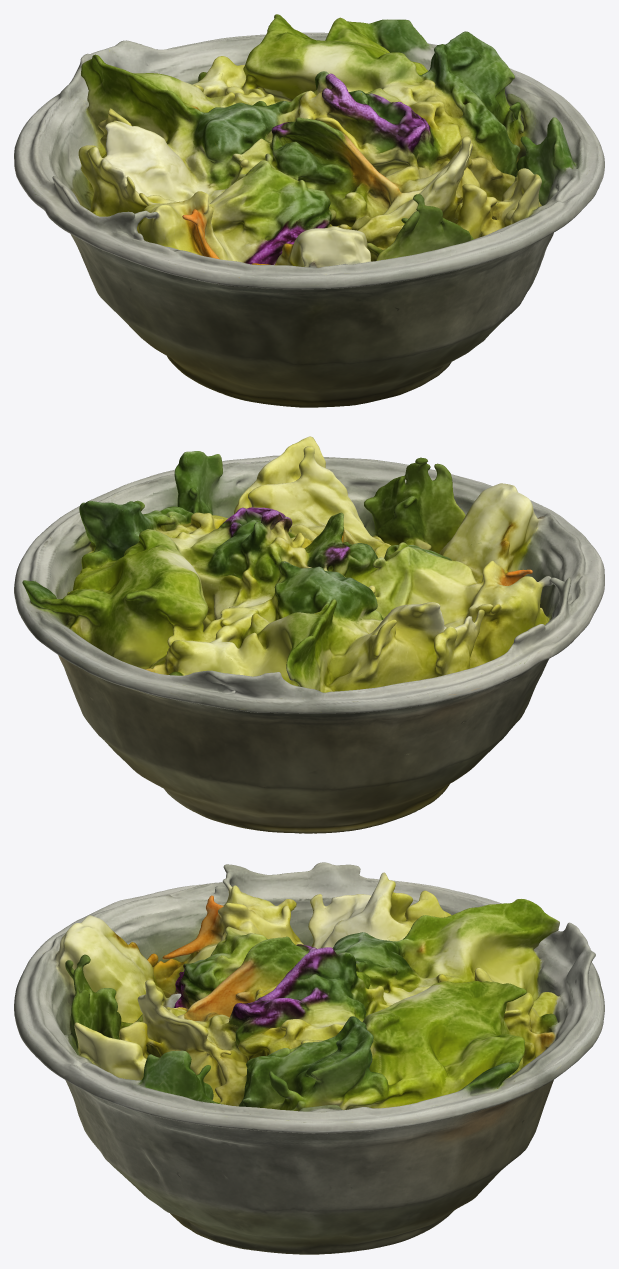
Rendered from Copilot3D-b7cbcd95-22c1-4b60-9c3e-02cd4f29441e.glb.
The picture shows the model from 3 angles, top to bottom: view 1: azimuth 30°, elevation 25°; view 2: azimuth 150°, elevation 25°; view 3: azimuth 270°, elevation 25°; orthographic projection.
Visible parts, largest first — view 1: world; view 2: world; view 3: world.
Part boxes in pixels (x1,y1,x2,y2): world: (14, 14, 604, 407); world: (14, 436, 604, 833); world: (14, 862, 604, 1254).
Size of the model in its own units: 0.9995 by 0.4887 by 1.
1 material, 1 textured.
